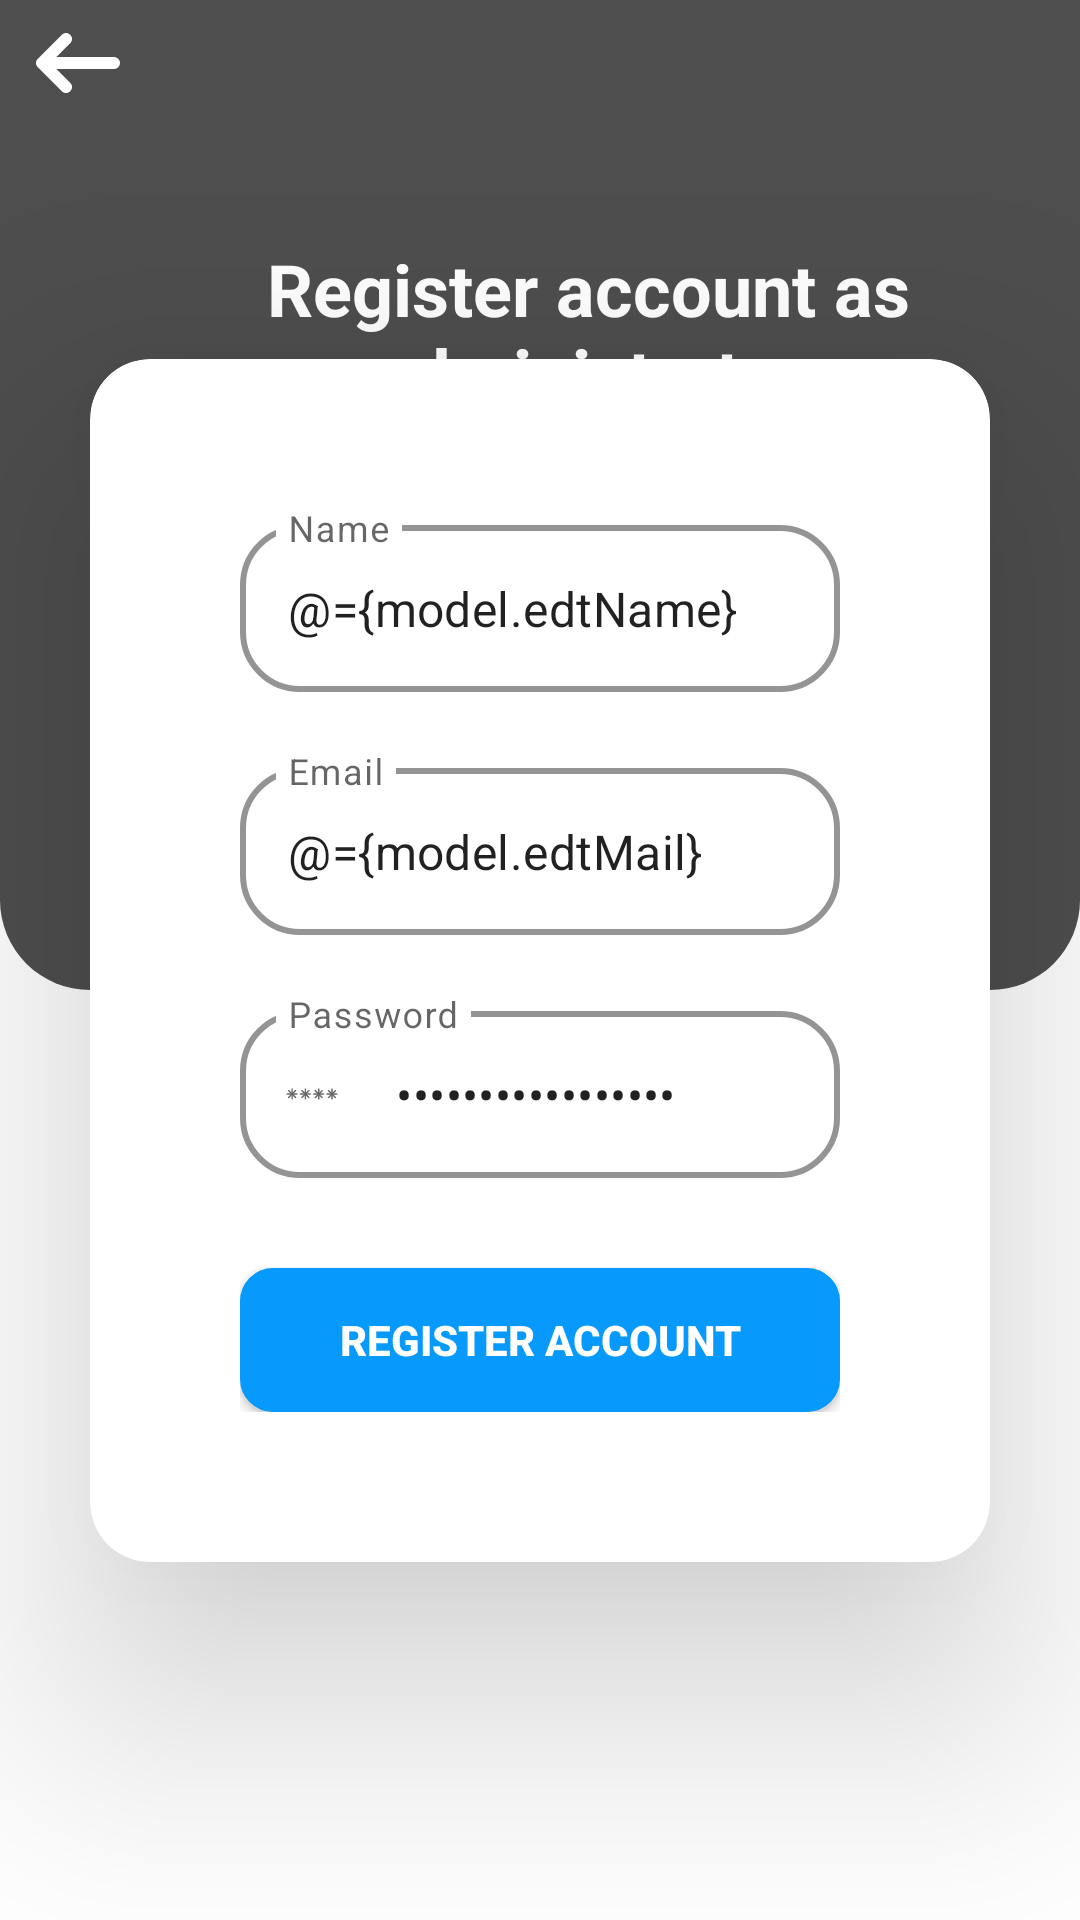

Screen size 1080px×1920px. Icon name, then its box in pixels as (x1, y1, x2, y2):
arrow back: (36, 33, 120, 93)
